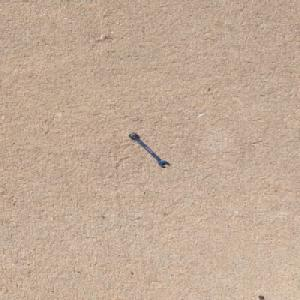Wrench: (127, 132, 169, 167)
